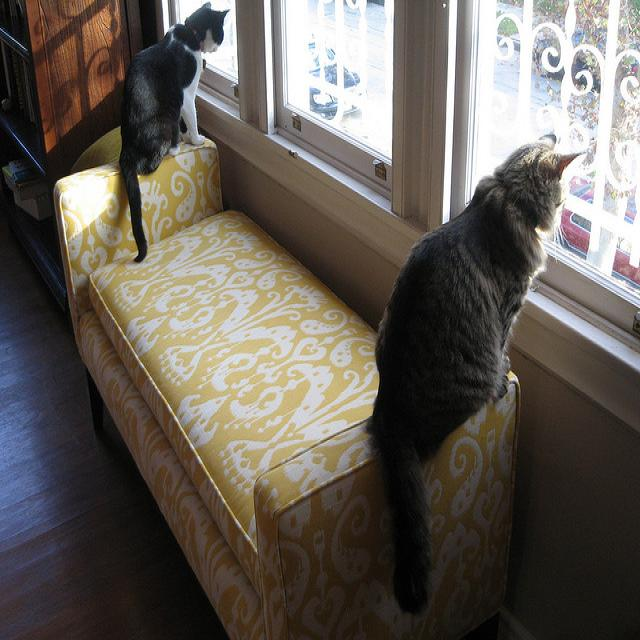Vehicle: (548, 175, 640, 295), (309, 40, 367, 116)
